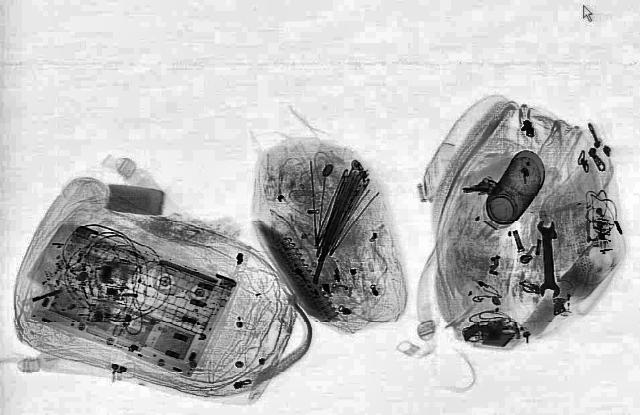Wrench: (535, 220, 559, 296)
